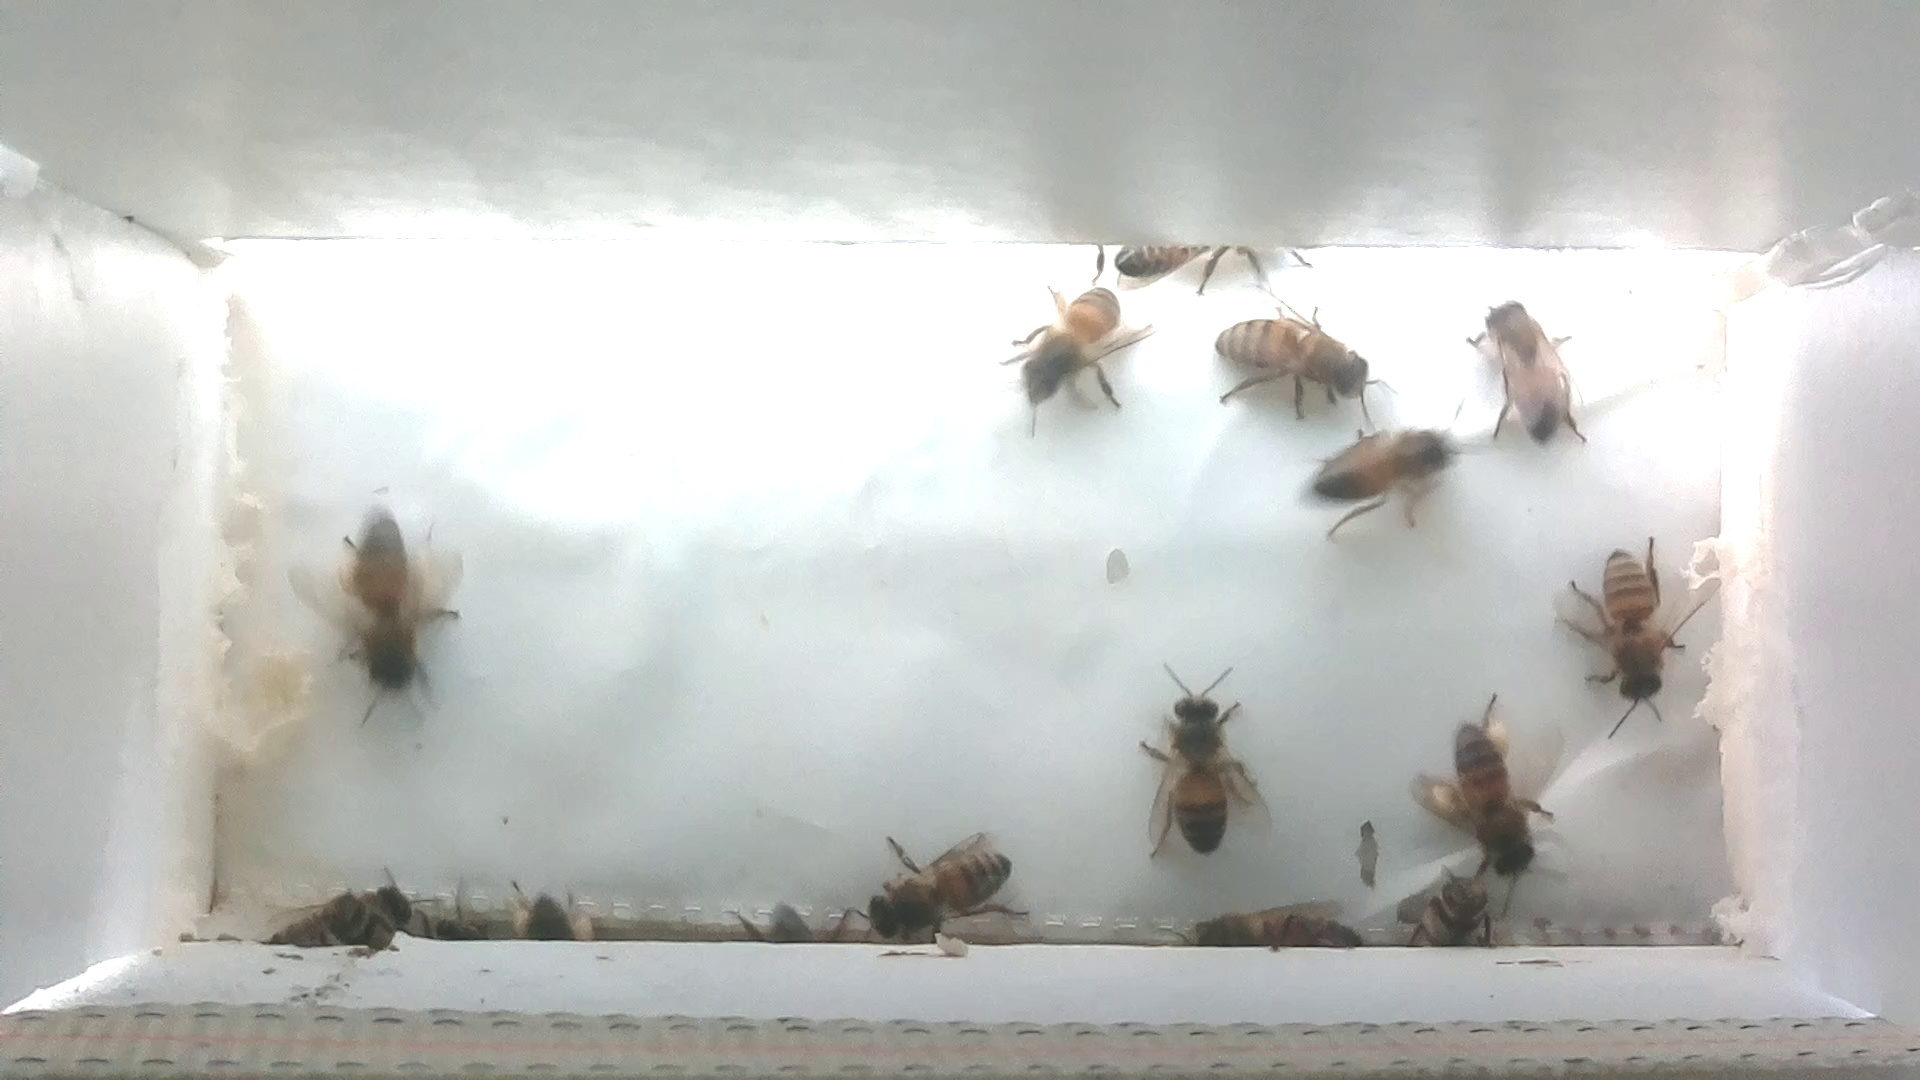bee: (1393, 694, 1593, 906), (1116, 645, 1280, 870), (1544, 525, 1713, 741), (301, 504, 471, 713), (1451, 295, 1609, 462), (847, 823, 1039, 953), (993, 272, 1145, 436), (1288, 407, 1480, 538), (1205, 305, 1386, 439), (253, 864, 418, 967), (1160, 895, 1370, 965), (1100, 229, 1284, 309), (1391, 866, 1516, 959)
